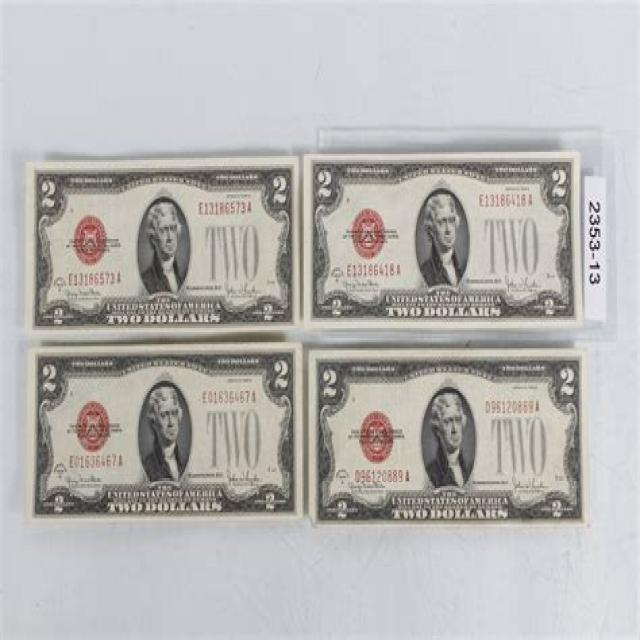Two: (308, 346, 586, 532), (27, 342, 304, 526), (308, 151, 580, 331), (28, 160, 301, 333)
